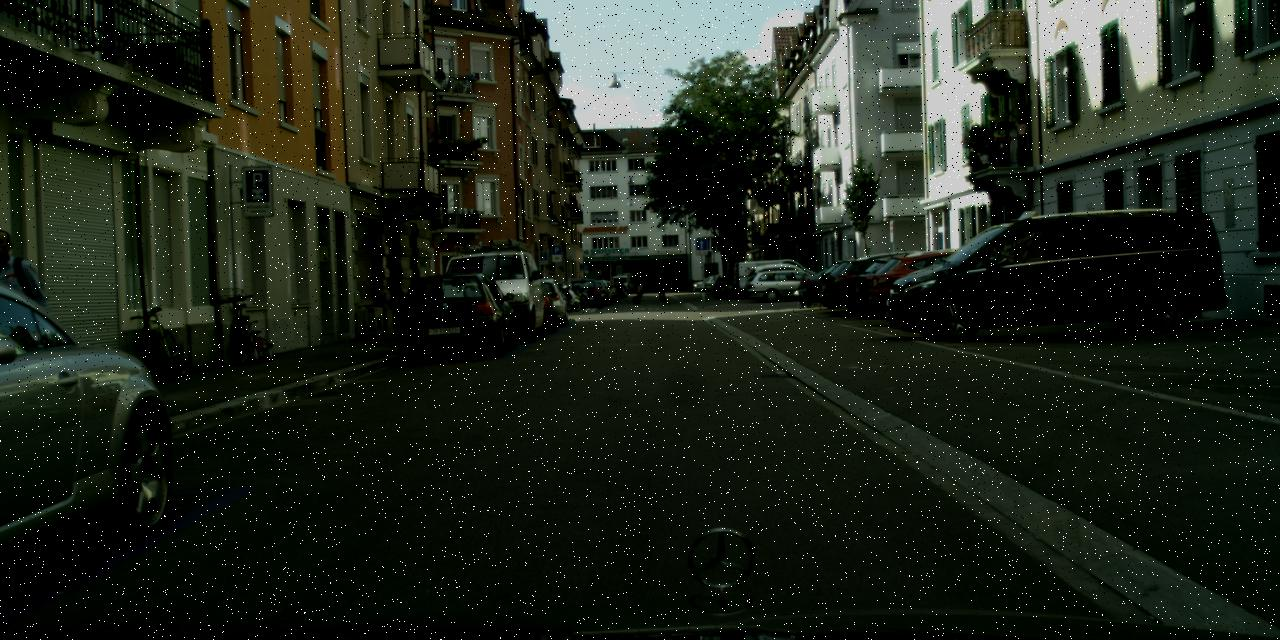ped: (0, 230, 55, 438), (655, 272, 667, 302), (634, 281, 644, 304)
